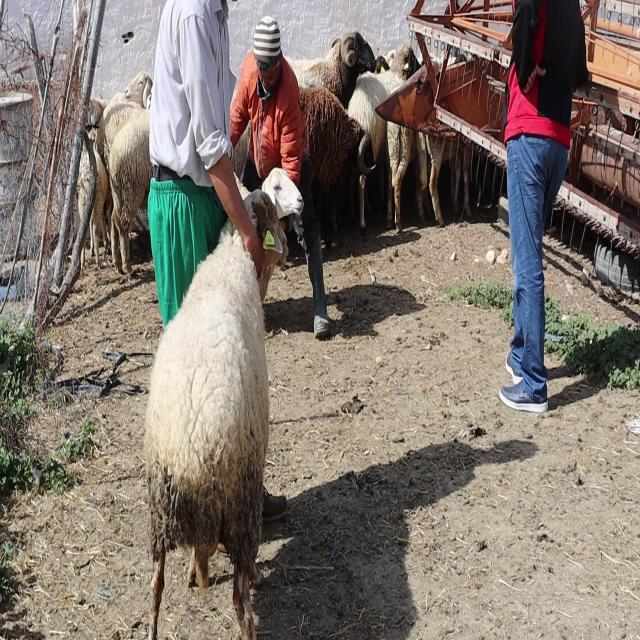Score_5: (143, 220, 268, 639)
